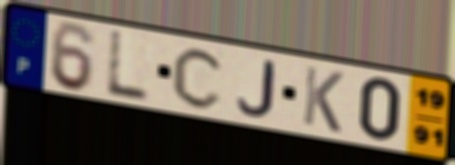0: (356, 76, 404, 143)
6: (47, 19, 99, 94)
C: (170, 45, 228, 111)
J: (235, 59, 276, 119)
K: (300, 63, 347, 136)
L: (103, 29, 153, 105)
